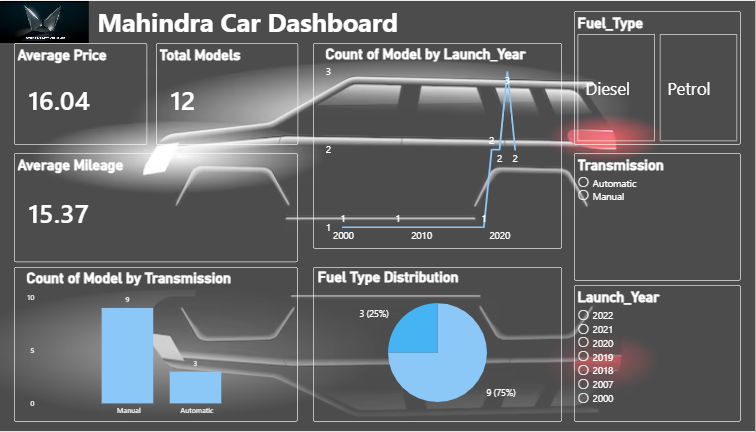

The page's visual inventory and layout, read from the dashboard file:
{"tool":"powerbi","page":{"name":"Page 1","canvas":[1280,720],"ordinal":0},"visuals":[{"type":"textbox","box":[0,0,825,70],"z":0},{"type":"image","box":[0,0,148.3,70],"z":1000},{"type":"pieChart","title":"Fuel Type Distribution","fields":{"Category":["mahindra_cars.Fuel_Type"],"Y":["CountNonNull(mahindra_cars.Model)"]},"box":[521.7,443.3,415,258.3],"z":2000},{"type":"cardVisual","title":"Total Models","fields":{"Data":["CountNonNull(mahindra_cars.Model)"]},"box":[260,70,236.7,170],"z":3000},{"type":"cardVisual","title":"Average Price","fields":{"Data":["Avg(mahindra_cars.Price_In_Lakh)"]},"box":[23.3,70,221.7,170],"z":4000},{"type":"columnChart","fields":{"Category":["mahindra_cars.Transmission"],"Y":["CountNonNull(mahindra_cars.Model)"]},"box":[23.3,443.3,473.3,258.3],"z":5000},{"type":"cardVisual","title":"Average Mileage","fields":{"Data":["Avg(mahindra_cars.Mileage_KMPL)"]},"box":[23.3,253.3,473.3,181.7],"z":6000},{"type":"lineChart","fields":{"Category":["mahindra_cars.Launch_Year"],"Y":["CountNonNull(mahindra_cars.Model)"]},"box":[521.7,70,415,343.3],"z":7000},{"type":"listSlicer","fields":{"Values":["mahindra_cars.Launch_Year"]},"box":[956.7,473.3,278.3,228.3],"z":8000},{"type":"advancedSlicerVisual","fields":{"Values":["mahindra_cars.Fuel_Type"]},"box":[956.7,16.7,278.3,223.3],"z":9000},{"type":"listSlicer","fields":{"Values":["mahindra_cars.Transmission"]},"box":[956.7,253.3,278.3,213.3],"z":9001}]}

Visuals, with their boxes in screenshot pixels (x1, y1, x2, y2), scaled from the page's 1280x720 canvas onto the 756x432 screenshot:
textbox: l=0, t=0, r=487, b=42
image: l=0, t=0, r=88, b=42
"Fuel Type Distribution" pieChart: l=308, t=266, r=553, b=421
"Total Models" cardVisual: l=154, t=42, r=293, b=144
"Average Price" cardVisual: l=14, t=42, r=145, b=144
columnChart - mahindra_cars.Transmission x CountNonNull(mahindra_cars.Model): l=14, t=266, r=293, b=421
"Average Mileage" cardVisual: l=14, t=152, r=293, b=261
lineChart - mahindra_cars.Launch_Year x CountNonNull(mahindra_cars.Model): l=308, t=42, r=553, b=248
listSlicer - mahindra_cars.Launch_Year: l=565, t=284, r=729, b=421
advancedSlicerVisual - mahindra_cars.Fuel_Type: l=565, t=10, r=729, b=144
listSlicer - mahindra_cars.Transmission: l=565, t=152, r=729, b=280
